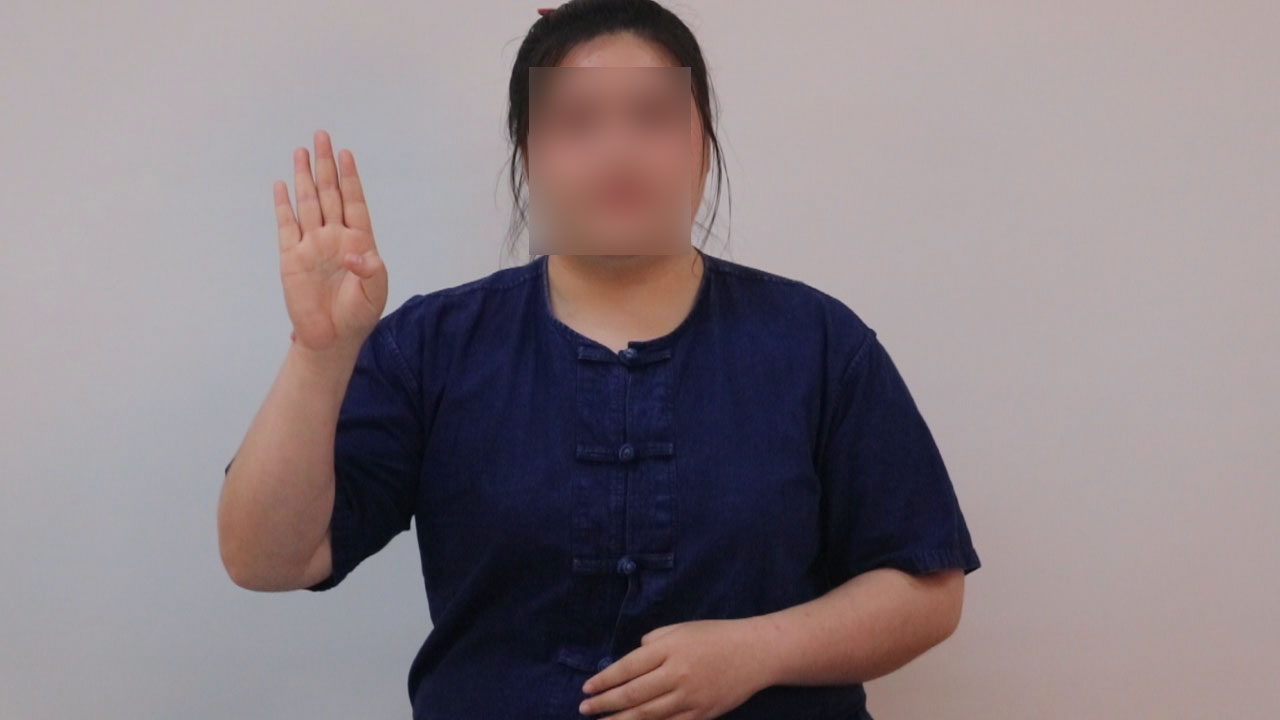bor: (247, 105, 410, 380)
